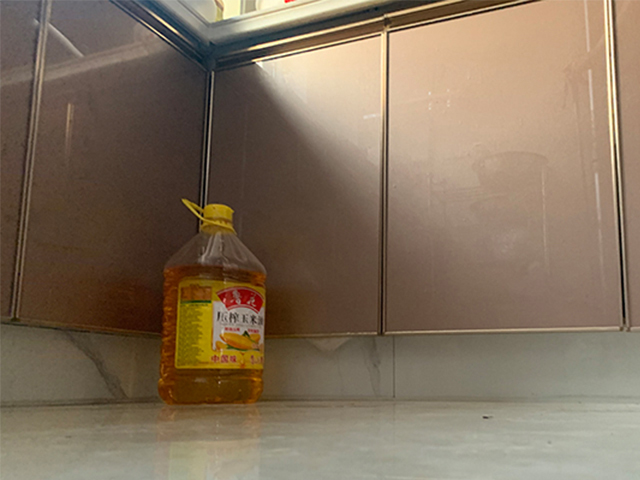cabinet: (220, 1, 640, 400), (1, 1, 219, 400)
